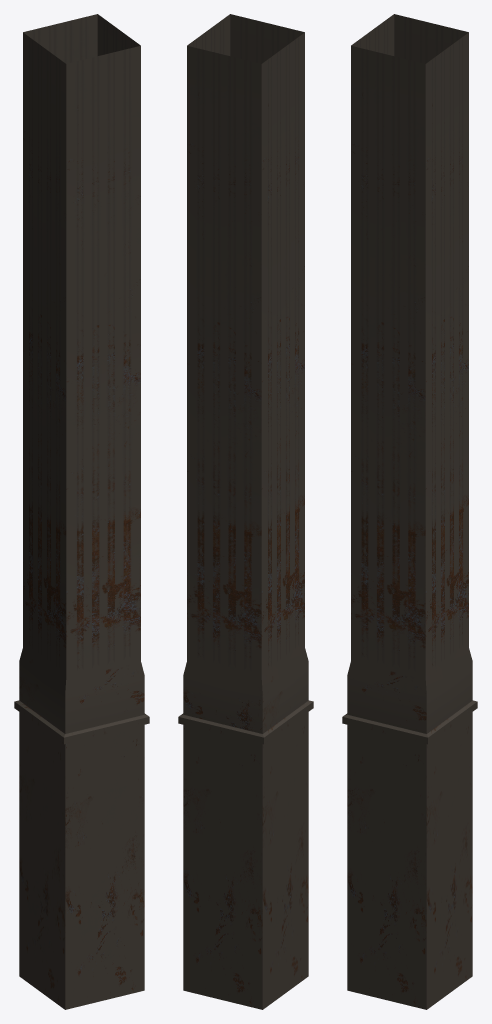
The model's file is Metal_Column_Small_Bottom.gltf.
3 renders of one model, left to right at view 1: azimuth 30°, elevation 25°; view 2: azimuth 150°, elevation 25°; view 3: azimuth 330°, elevation 25°, orthographic.
Parts seen in each view (by area): view 1: Metal_Column_Small_Bottom; view 2: Metal_Column_Small_Bottom; view 3: Metal_Column_Small_Bottom.
Part boxes in pixels (<box>): Metal_Column_Small_Bottom: <box>14,14,149,1009</box>; Metal_Column_Small_Bottom: <box>178,14,313,1009</box>; Metal_Column_Small_Bottom: <box>342,14,477,1009</box>.
Size of the model in its own units: 0.2846 by 3 by 0.2847.
1 material, 1 textured.
